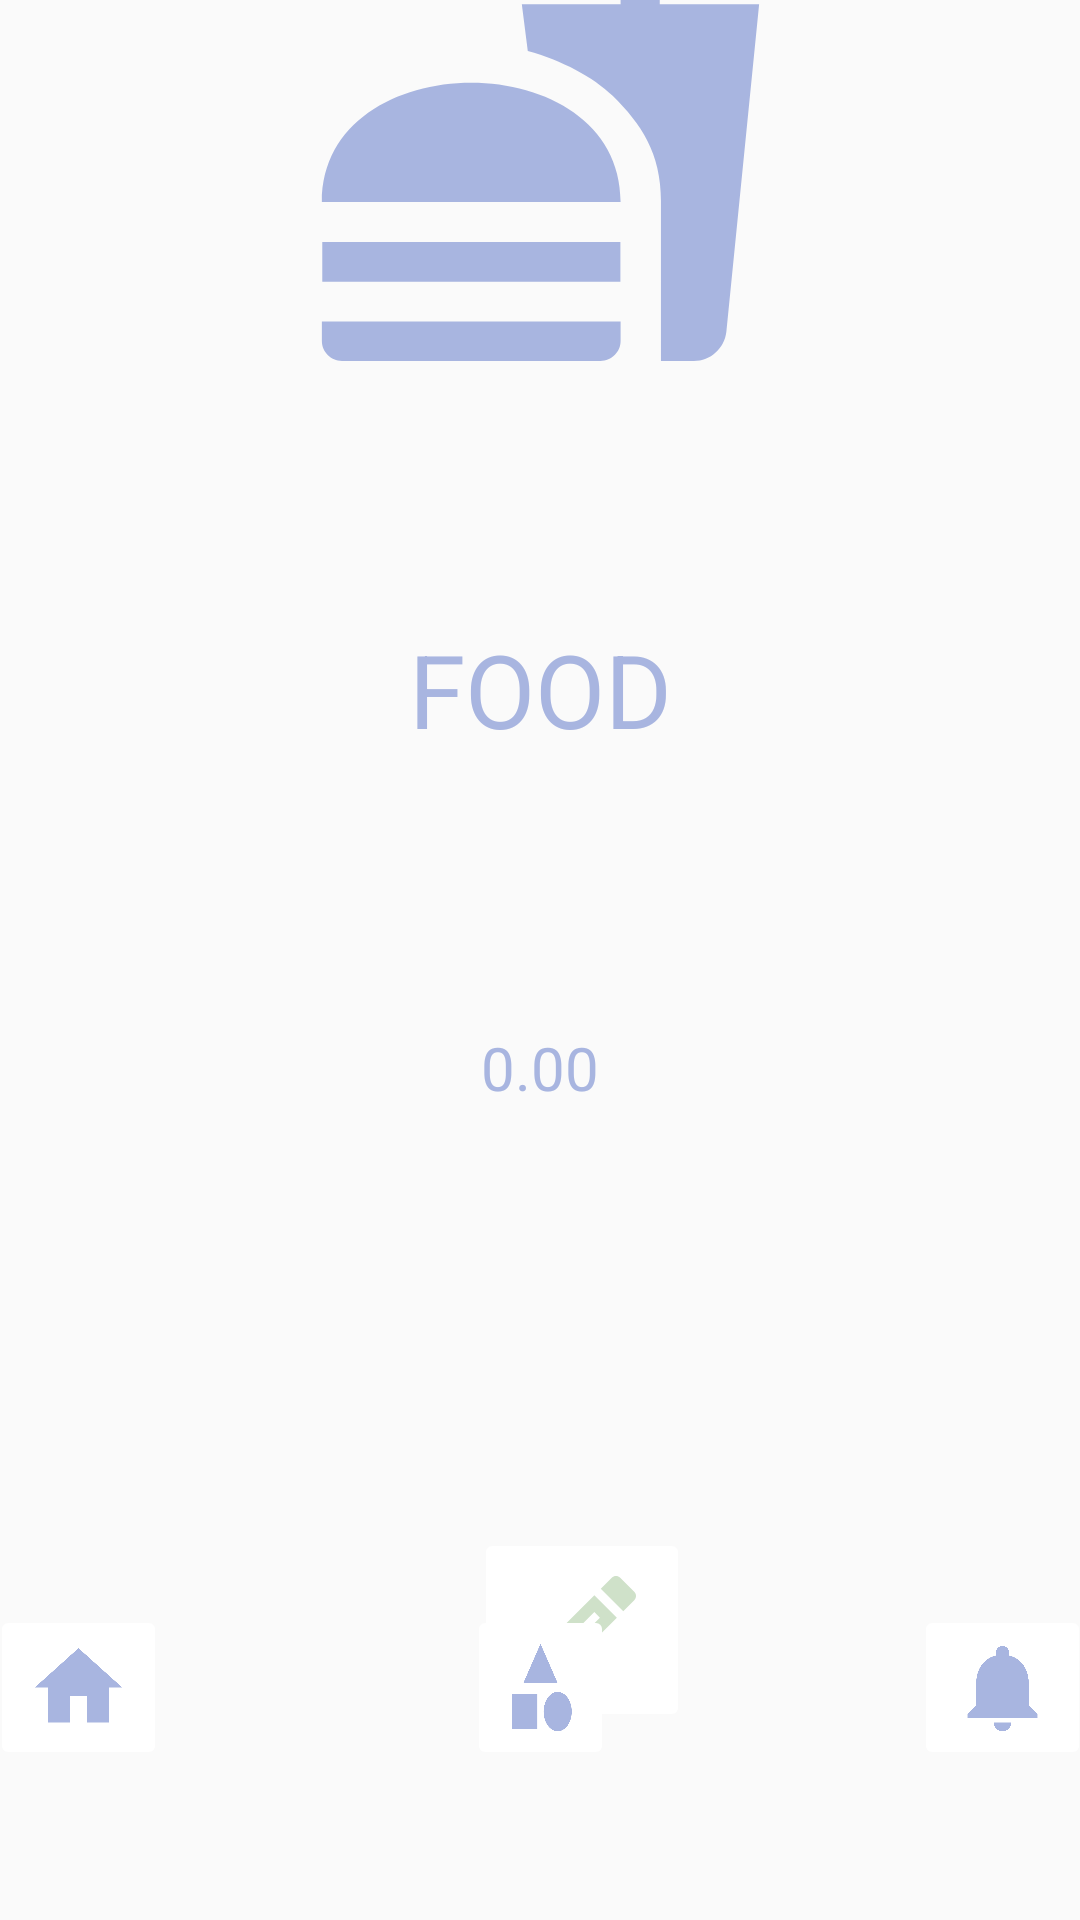

Screen size 1080 × 1920. Icon name, then its box in pixels as (x1, y1, x2, y2):
HOME: (35, 1648, 122, 1723)
NOTIFICATION: (967, 1646, 1038, 1731)
